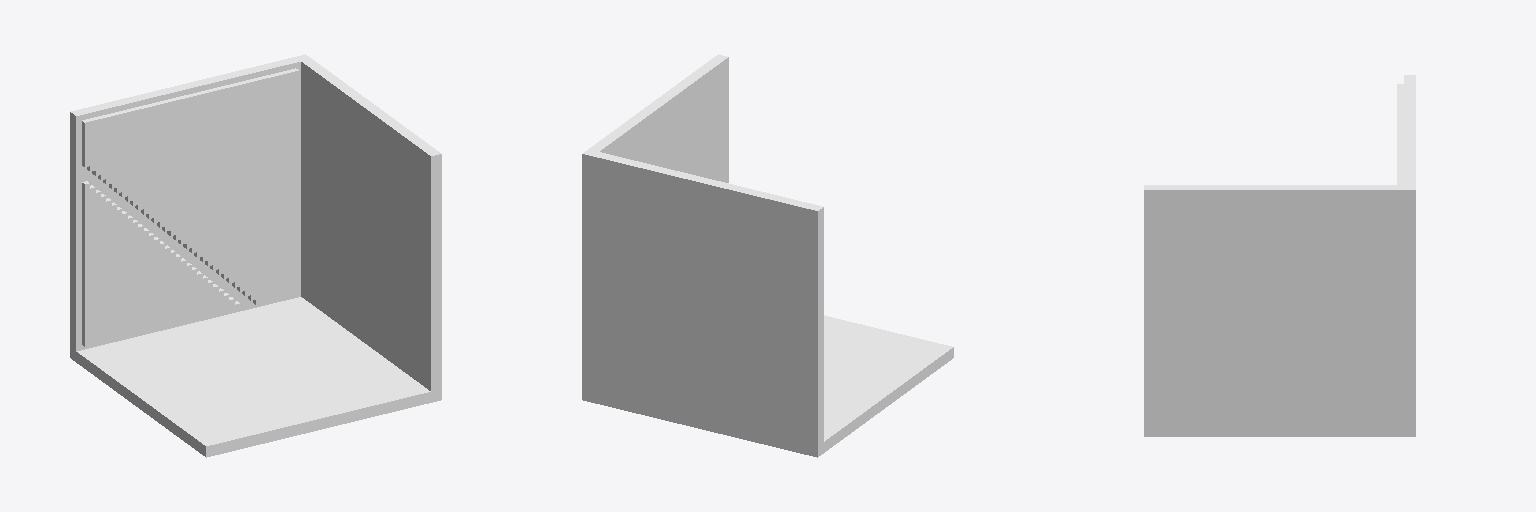
File: mesh_hanger_entrance_right.obj
3 views of the same model, side by side, from view 1: azimuth 30°, elevation 25°; view 2: azimuth 150°, elevation 25°; view 3: azimuth 270°, elevation 25° (orthographic).
Visible parts, largest first — view 1: object 1; view 2: object 1; view 3: object 1.
Part boxes in pixels (bbox=[...]): object 1: bbox=[70, 54, 441, 457]; object 1: bbox=[582, 54, 953, 457]; object 1: bbox=[1144, 75, 1415, 436].
Bounding box in the file's own units: 4.4 × 4.4 × 4.4.